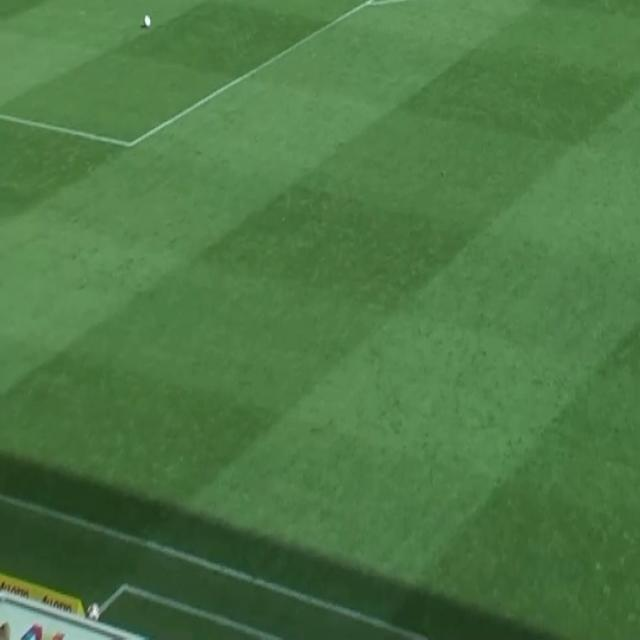ball: (143, 14, 150, 26)
